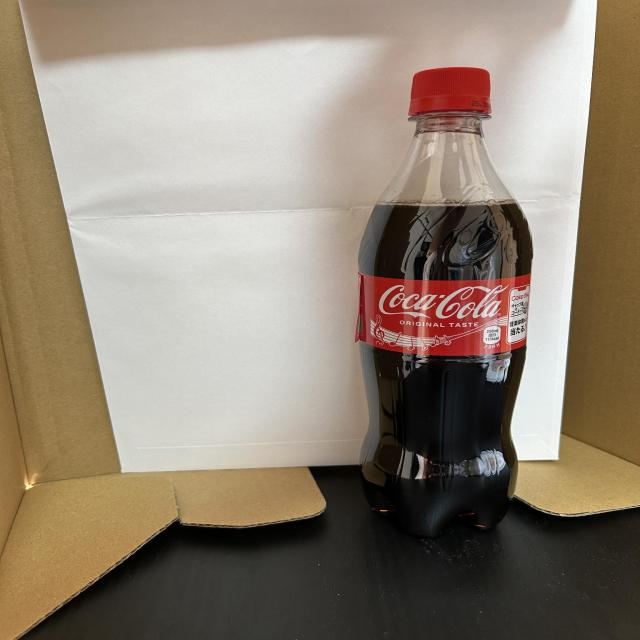high: (355, 67, 532, 536)
